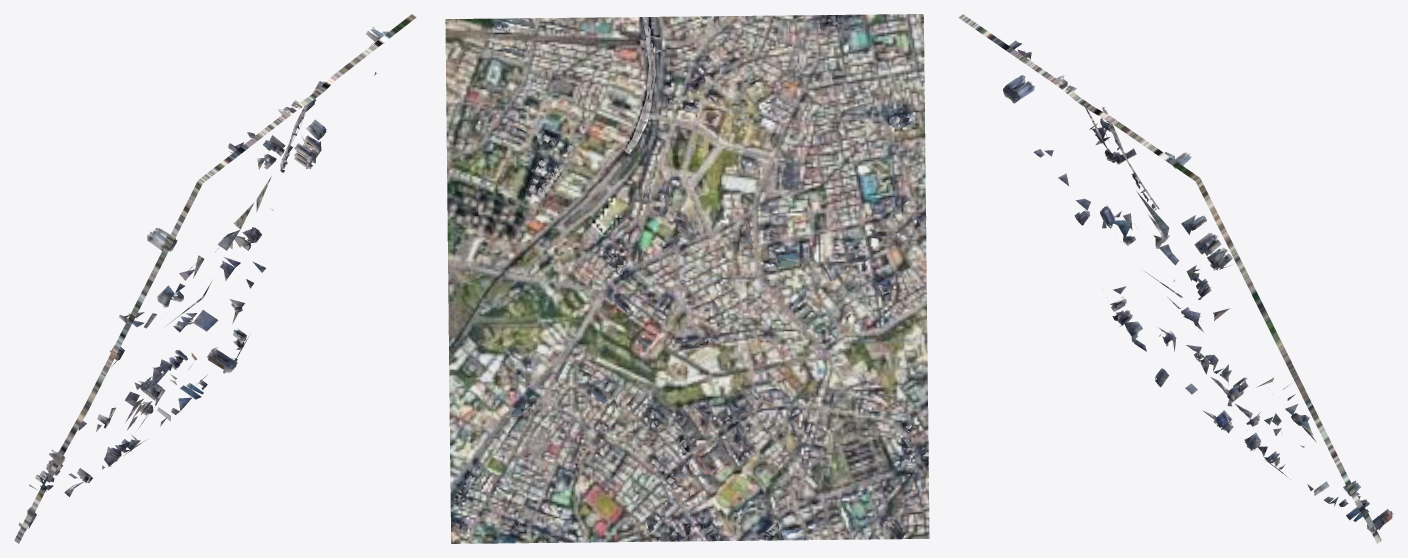
3 renders of one model, left to right at view 1: azimuth 30°, elevation 25°; view 2: azimuth 150°, elevation 25°; view 3: azimuth 270°, elevation 25°, orthographic. The views are drawn at different scales.
Size of the model in its own units: 2450 by 2237 by 2125.
Materials: 1 (1 with a texture image).
